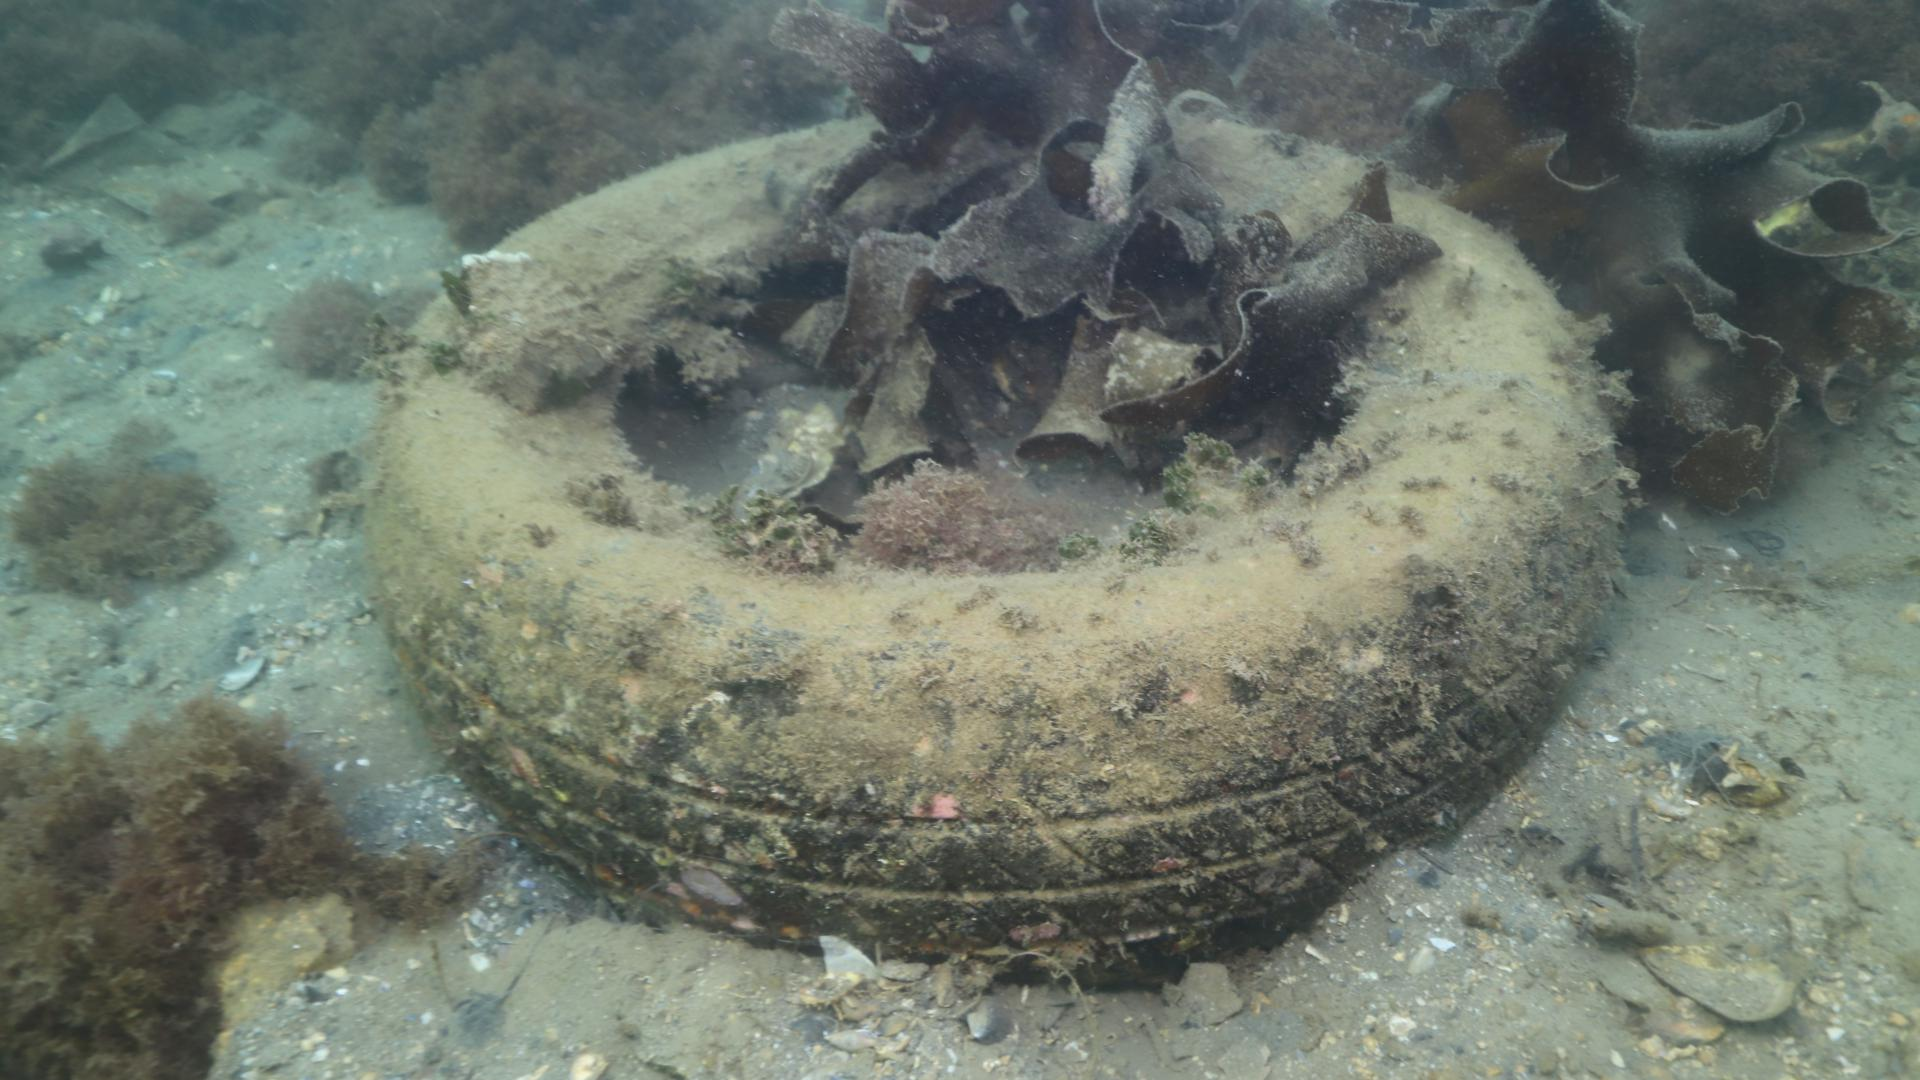tire: (375, 104, 1627, 990)
